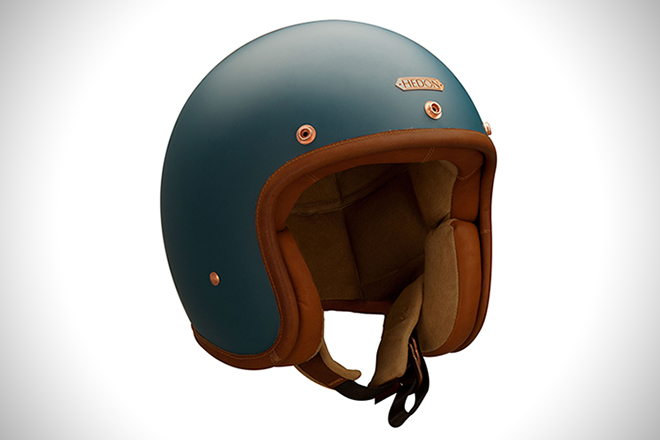with_helmet: (150, 10, 508, 406)
